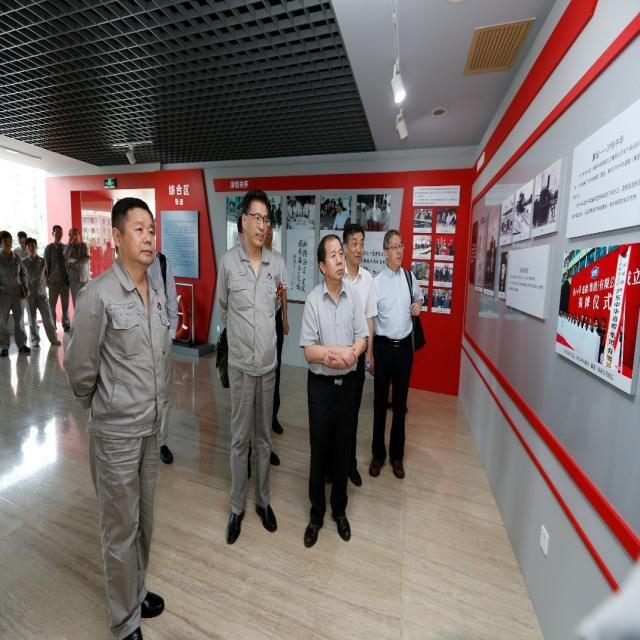body: (59, 195, 177, 639), (213, 187, 284, 548), (297, 231, 371, 550), (364, 226, 428, 481), (322, 221, 379, 488), (240, 214, 283, 436), (225, 186, 392, 242), (146, 207, 180, 465), (553, 250, 630, 358), (410, 201, 459, 321), (20, 236, 62, 348), (0, 229, 32, 357), (42, 224, 72, 334), (12, 230, 40, 331), (480, 240, 527, 300), (62, 227, 91, 313), (239, 441, 281, 478), (385, 394, 410, 415)
